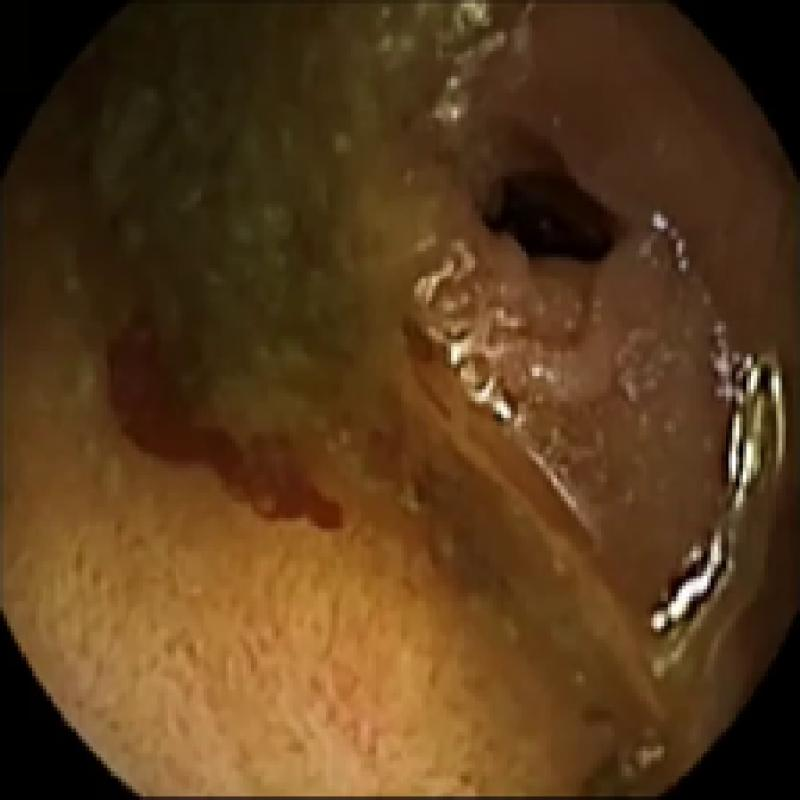bleeding: (90, 314, 340, 522)
